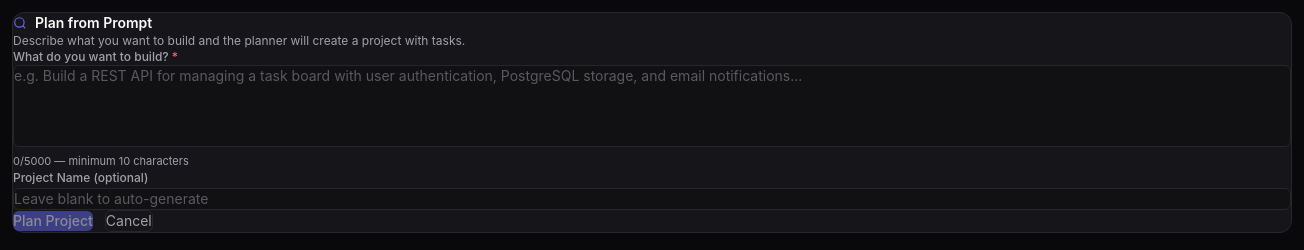
it: PromptIntakeForm (FM-013) › keeps submit disabled until the prompt hits the 10-char minimum
Replace the text in the text box labelled "What do you want to build? *" with "short" at (652,106), box [13,65,1291,147]
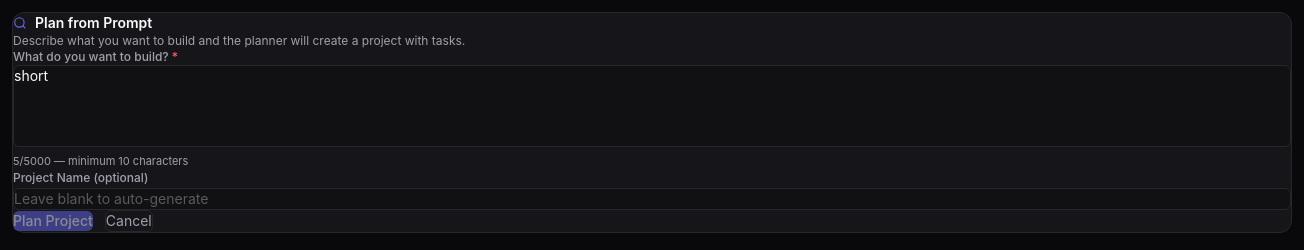
Check: the button "Plan Project" is disabled, box [13,210,93,230]
Replace the text in the text box labelled "What do you want to build? *" with "10chars!!!" at (652,106), box [13,65,1291,147]
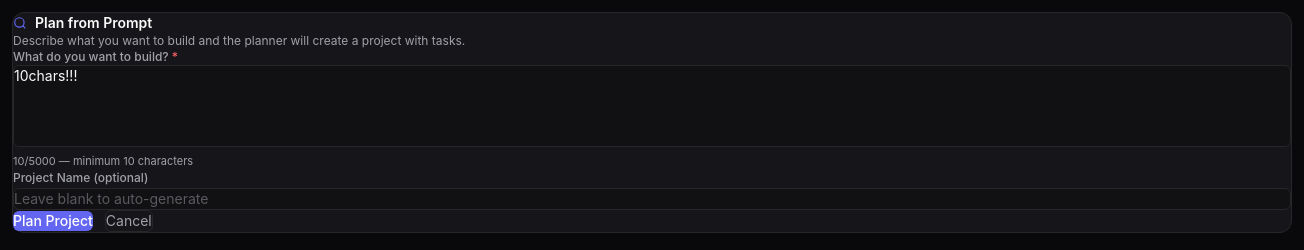
Check: the button "Plan Project" is enabled, box [13,210,93,230]
Check: the text "10/5000 — minimum 10 characters" is shown, box [13,154,193,168]
